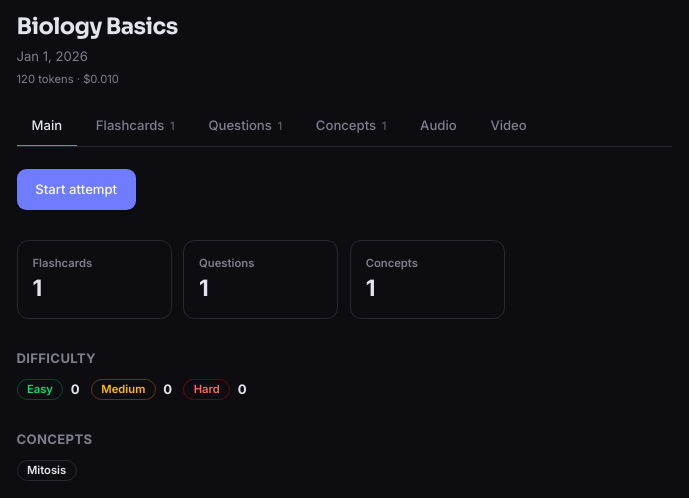
it: StudyPage — loaded with questions › shows generation usage in the header and on concepts
Click the tab "Concepts1" at (351, 126), box [301,105,401,147]
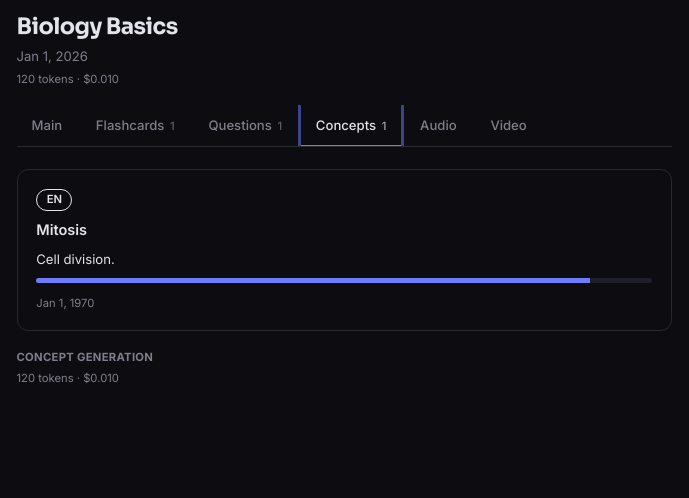
Expected: the text "120 tokens · $0.010" below "Jan 1, 2026" is shown, [16,72,119,86]
Expected: the heading "Concept generation" is shown, [16,350,153,364]
